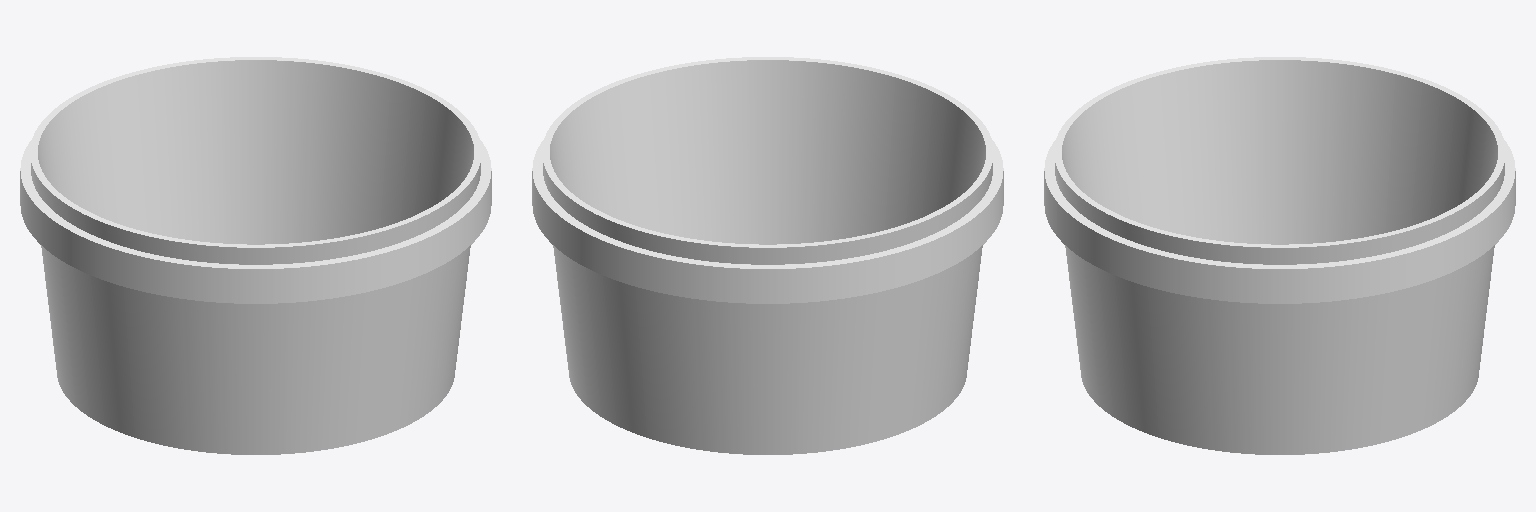
URDF robot description (cube.urdf):
<?xml version="1.0" ?>
<robot name="cube.urdf">
  <link name="baseLink">
    <contact>
      <lateral_friction value="1.0"/>
      <inertia_scaling value="3.0"/>
    </contact>
    <inertial>
      <origin rpy="0 0 0" xyz="-0.01 0 0.02"/>
       <mass value=".1"/>
       <inertia ixx="1" ixy="0" ixz="0" iyy="1" iyz="0" izz="1"/>
    </inertial>
    <visual>
      <origin rpy="0 0 0" xyz="0 0 0"/>
      <geometry>
			<mesh filename="round_container.obj" scale="0.5 0.5 0.5"/>
      </geometry>
       <material name="white">
        <color rgba="1 1 1 1"/>
      </material>
    </visual>
    <collision>
      <origin rpy="0 0 0" xyz="0 0 0"/>
      <geometry>
	 	<mesh filename="round_container.obj" scale="0.5 0.5 0.5"/>
      </geometry>
    </collision>
  </link>
</robot>

--- Render facts (derived) ---
Views: 3 orthographic renders of the robot side by side, from view 1: azimuth 30°, elevation 25°; view 2: azimuth 150°, elevation 25°; view 3: azimuth 270°, elevation 25°.
Robot: cube.urdf — 1 links, 0 joints (none); root link baseLink; default pose: all joints at 0.
Links seen in each view (by area): view 1: baseLink; view 2: baseLink; view 3: baseLink.
Link boxes in pixels (x1=…): baseLink: x1=20, y1=57, x2=491, y2=454; baseLink: x1=532, y1=57, x2=1003, y2=454; baseLink: x1=1044, y1=57, x2=1515, y2=454.
Bounding box of the posed robot: 61.5 × 61.5 × 31.5 m (x, y, z).
Meshes: 1 distinct files referenced, 1 mesh visuals loaded (1 OBJ).
